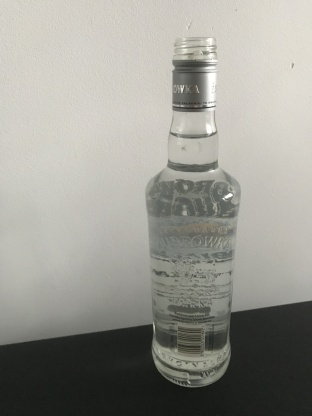nakretka: (170, 35, 218, 113)
